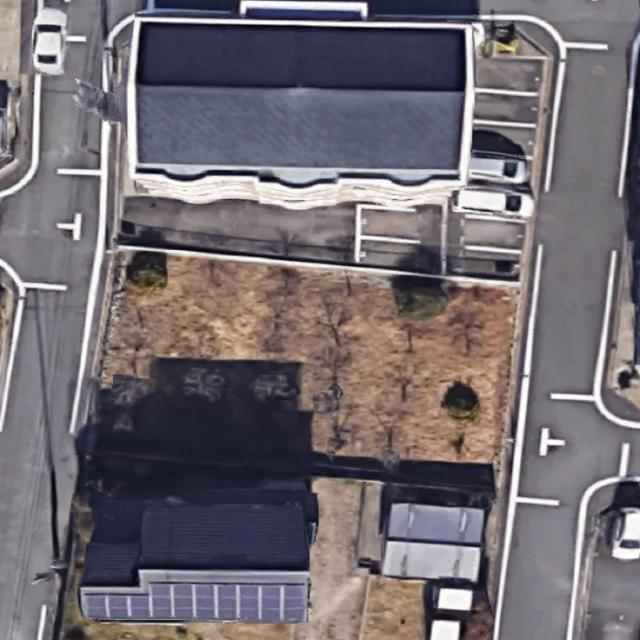Batiment: (136, 22, 466, 184), (80, 500, 309, 623), (381, 502, 484, 582)
